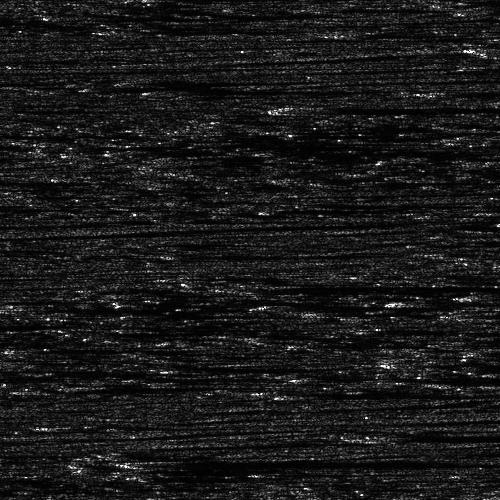rock: (167, 280, 302, 299), (423, 177, 500, 192), (313, 431, 406, 442), (436, 306, 499, 319), (460, 215, 500, 230), (35, 384, 98, 391), (100, 460, 153, 465), (436, 293, 489, 298), (257, 391, 310, 394)
shadow: (235, 280, 500, 299), (127, 460, 484, 465), (360, 431, 500, 442), (67, 384, 182, 391), (284, 391, 471, 394), (0, 179, 112, 182), (0, 205, 60, 210), (0, 320, 23, 329), (463, 293, 500, 298)
